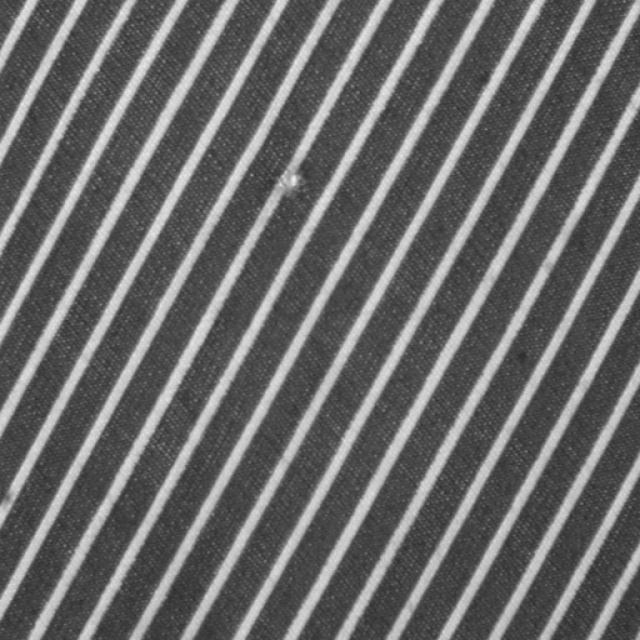Hole-Defect: (275, 161, 309, 198)
